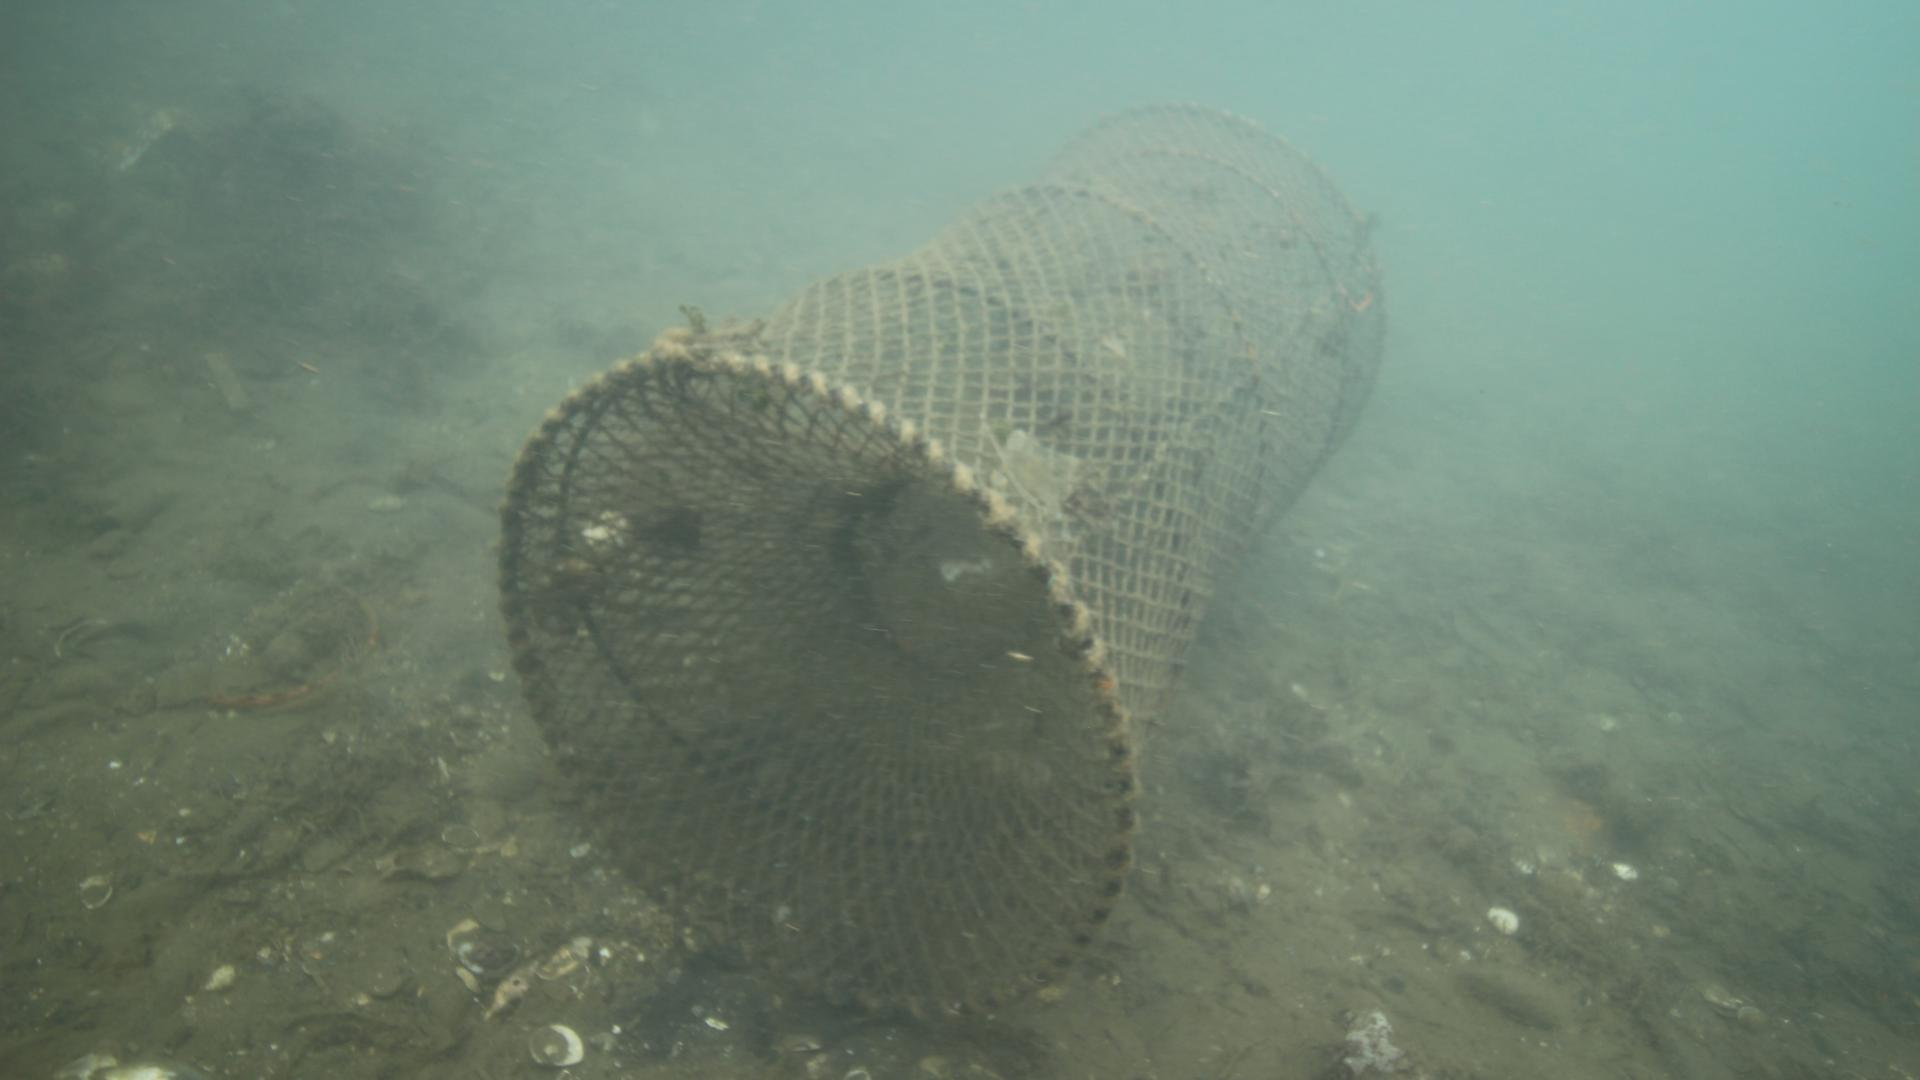spring fish trap: (492, 105, 1391, 1021)
